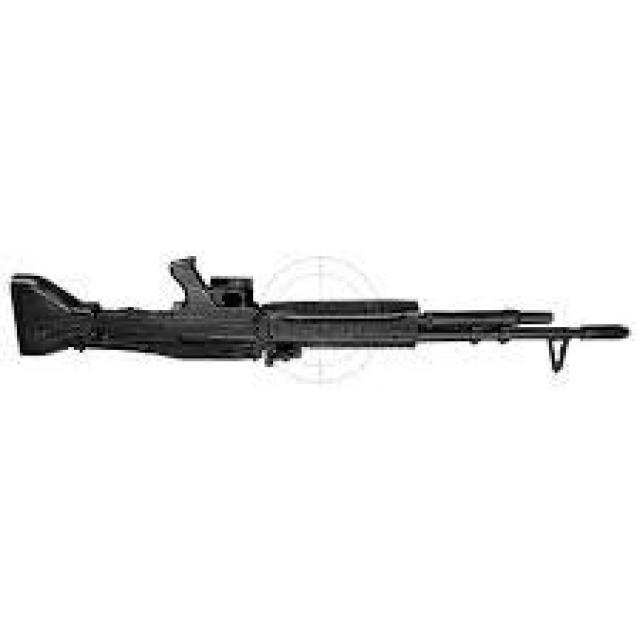weapon: (7, 254, 634, 374)
